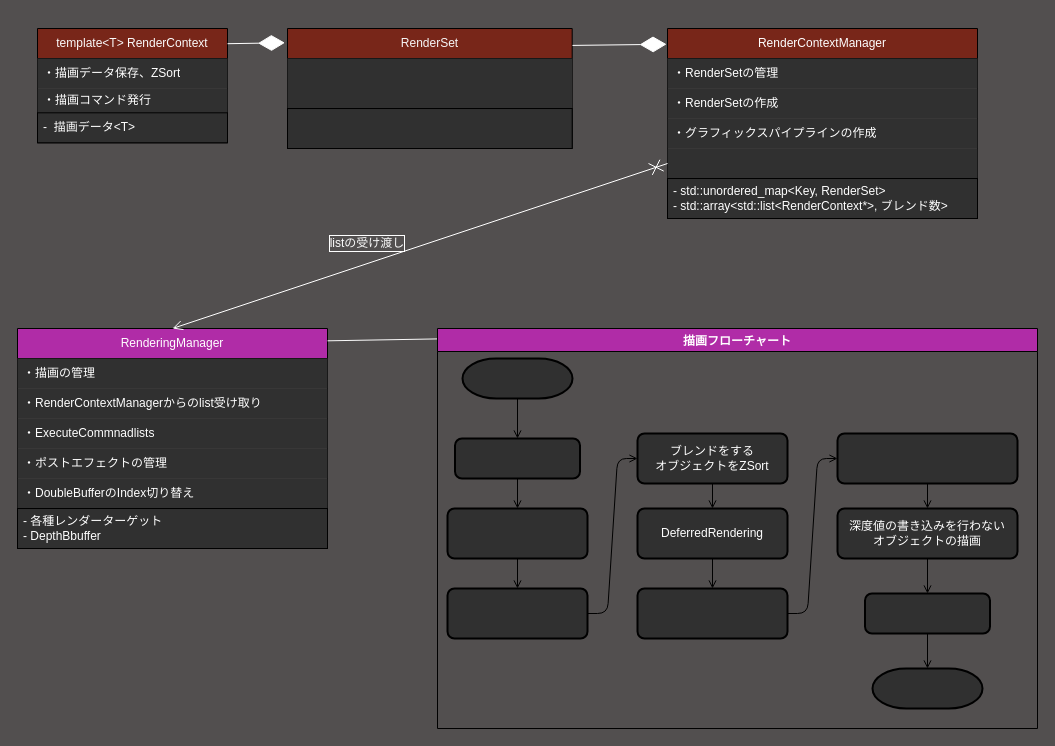
The diagram is 1055 pixels wide and 746 high, and some of its shapes have lost their labels. The shapes that lost their labels are listed below. From the top down, each one's centre as x and y in pixels, then its label:
At pixel 429 83: "・各ブレンドタイプに応じたBaseRenderContextを管理".
At pixel 429 128: "- std::array<BaseRenderContext, ブレンド数>".
At pixel 822 163: "・描画するRenderContextをまとめたlistの作成".
At pixel 517 378: "描画処理開始".
At pixel 517 458: "描画データセット".
At pixel 927 458: "深度値の書き込みを行わない オブジェクトをZSort".
At pixel 517 533: "ブレンドをしない オブジェクトの描画".
At pixel 517 613: "SkyBox描画".
At pixel 712 613: "ブレンドをする オブジェクトの描画".
At pixel 927 613: "DrawCountのリセット".
At pixel 927 688: "描画処理終了".
